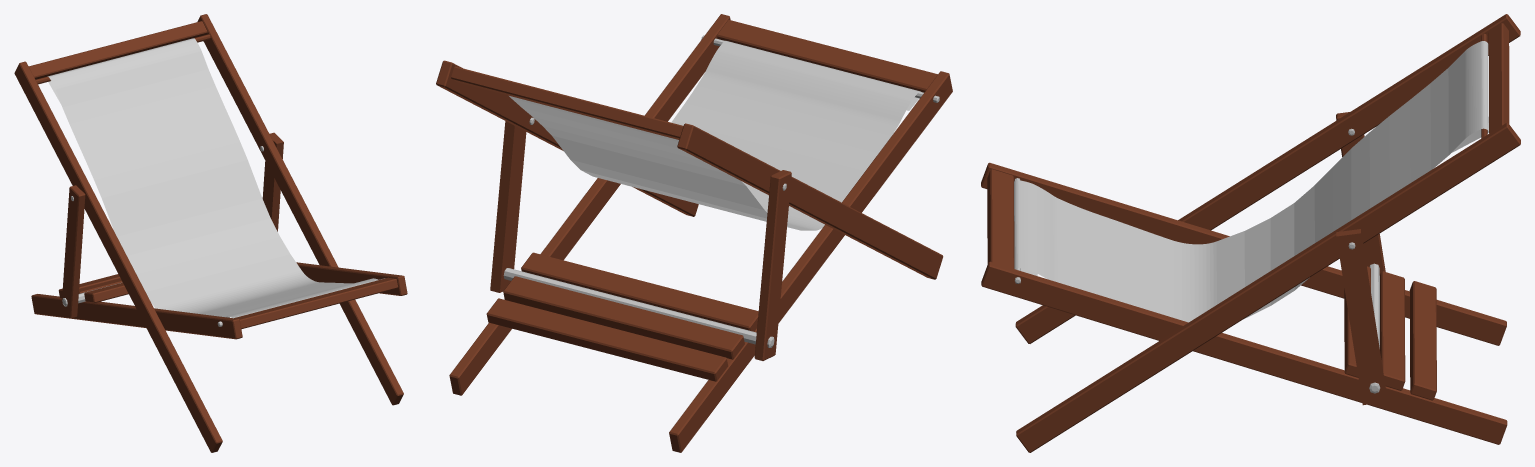
File: deckChair.obj
3 views of the same model, side by side, from view 1: azimuth 30°, elevation 25°; view 2: azimuth 150°, elevation 25°; view 3: azimuth 270°, elevation 25° (orthographic). The views are drawn at different scales.
Parts seen in each view (by area): view 1: Chair.002_Group1.002; view 2: Chair.002_Group1.002; view 3: Chair.002_Group1.002.
Boxes of the visible parts, x1,y1,x2,y2 form: Chair.002_Group1.002: [14, 14, 407, 452]; Chair.002_Group1.002: [436, 14, 952, 452]; Chair.002_Group1.002: [981, 14, 1520, 452].
Bounding box in the file's own units: 71.69 × 83.99 × 125.
